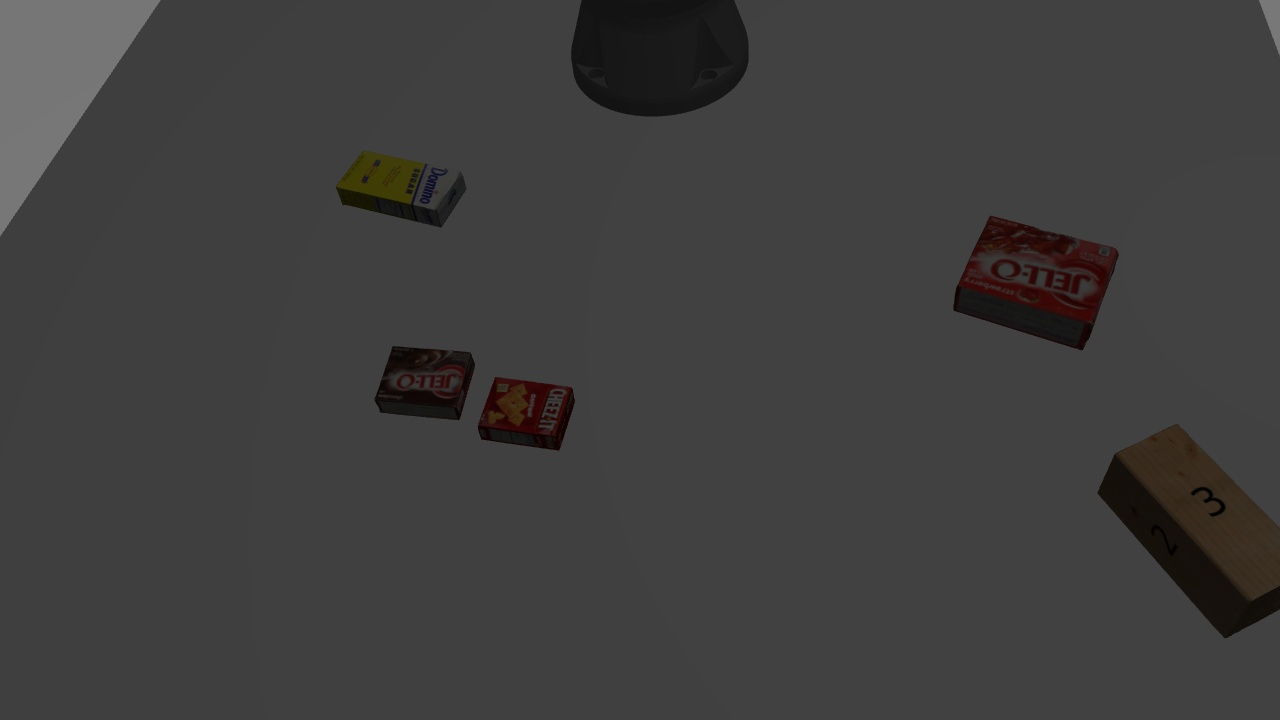cracker_box: (477, 369, 582, 463)
gelatin_box: (948, 211, 1127, 355)
pudding_box: (372, 339, 476, 427)
sugar_box: (333, 141, 473, 233)
wood_block: (1091, 413, 1279, 641)
